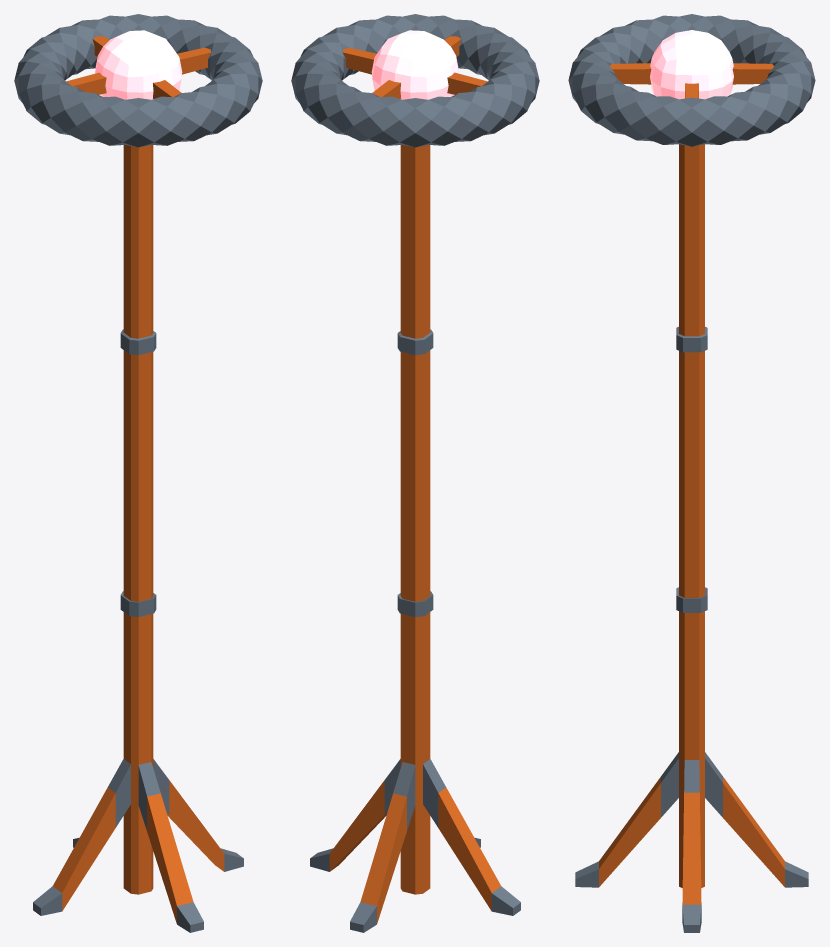
File: pole.glb
The picture shows the model from 3 angles, left to right: view 1: azimuth 30°, elevation 25°; view 2: azimuth 150°, elevation 25°; view 3: azimuth 270°, elevation 25°; orthographic projection.
Parts seen in each view (by area): view 1: Cube, Torus, Light; view 2: Cube, Torus, Light; view 3: Cube, Torus, Light.
Boxes of the visible parts, box(x1,y1,x2,y2) form: Cube: box(33, 36, 243, 932); Torus: box(14, 14, 262, 147); Light: box(95, 30, 182, 99); Cube: box(310, 36, 520, 932); Torus: box(291, 14, 539, 147); Light: box(371, 30, 458, 99); Cube: box(575, 63, 808, 932); Torus: box(568, 14, 815, 146); Light: box(650, 30, 733, 99).
Bounding box in the file's own units: 3.5 × 13.27 × 3.5.
